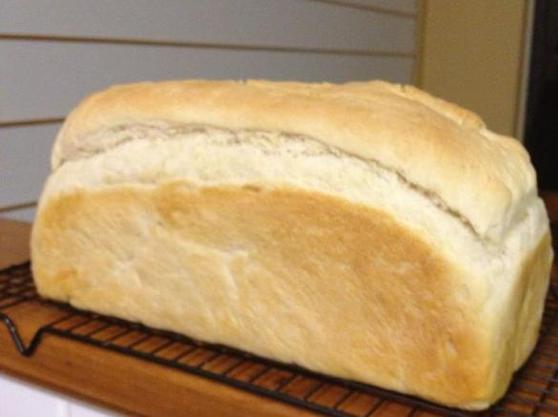white_bread: (41, 74, 551, 405)
